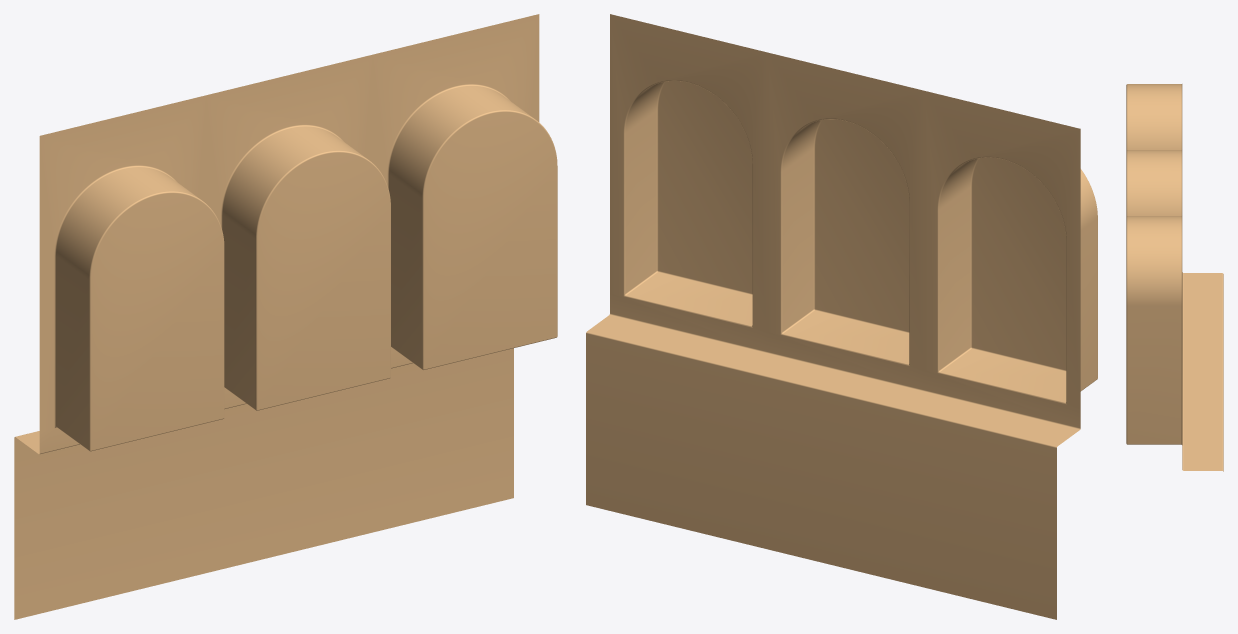
File: scene1_load_right_glb.glb
3 renders of one model, left to right at view 1: azimuth 30°, elevation 25°; view 2: azimuth 150°, elevation 25°; view 3: azimuth 270°, elevation 25°, orthographic. The views are drawn at different scales.
Parts seen in each view (by area): view 1: Podium1; view 2: Podium1; view 3: Podium1.
Boxes of the visible parts, x1,y1,x2,y2 form: Podium1: (14, 14, 557, 619); Podium1: (586, 14, 1097, 619); Podium1: (1126, 84, 1223, 471).
Bounding box in the file's own units: 0.8657 × 0.8323 × 0.1793.
